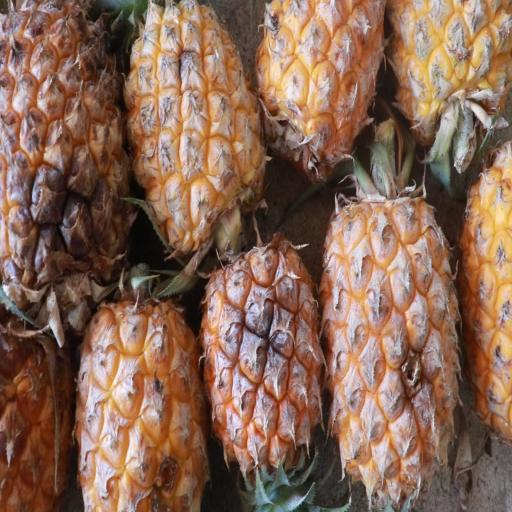Pineapple - v8 v1: (320, 193, 460, 512), (0, 0, 141, 304), (202, 227, 334, 512), (122, 1, 270, 246), (78, 275, 211, 512), (254, 0, 388, 172), (389, 0, 512, 166), (0, 292, 84, 511)
